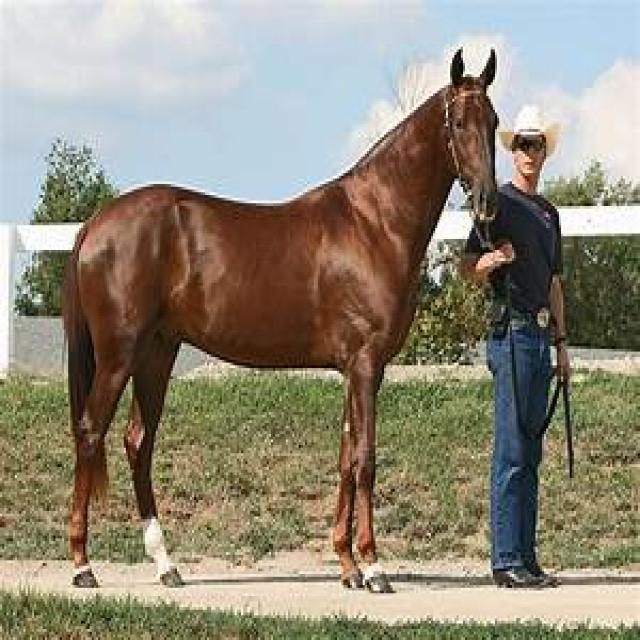horse: (64, 52, 498, 591)
